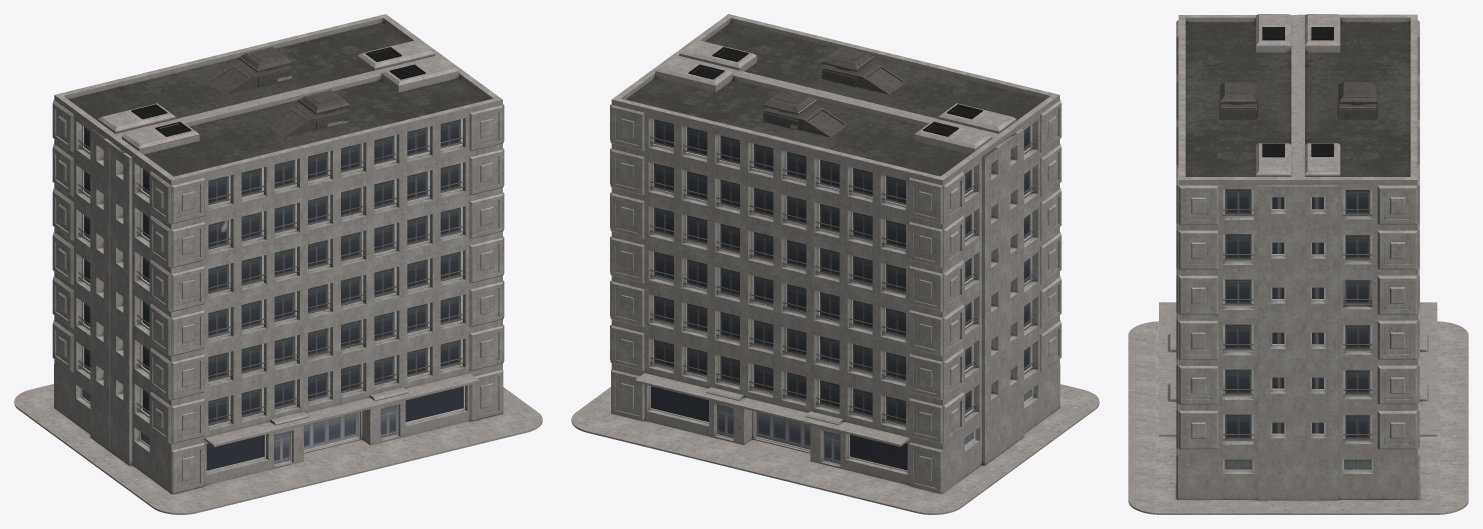
The model's file is bld22_19.glb.
The picture shows the model from 3 angles, left to right: view 1: azimuth 30°, elevation 25°; view 2: azimuth 150°, elevation 25°; view 3: azimuth 270°, elevation 25°; orthographic projection. The views are drawn at different scales.
Visible parts, largest first — view 1: bld22_19; view 2: bld22_19; view 3: bld22_19.
Boxes of the visible parts, <box> form: bld22_19: <box>14,14,542,514</box>; bld22_19: <box>571,14,1099,514</box>; bld22_19: <box>1128,14,1468,514</box>.
Size of the model in its own units: 54.59 by 44.89 by 40.89.
1 material, 1 textured.
